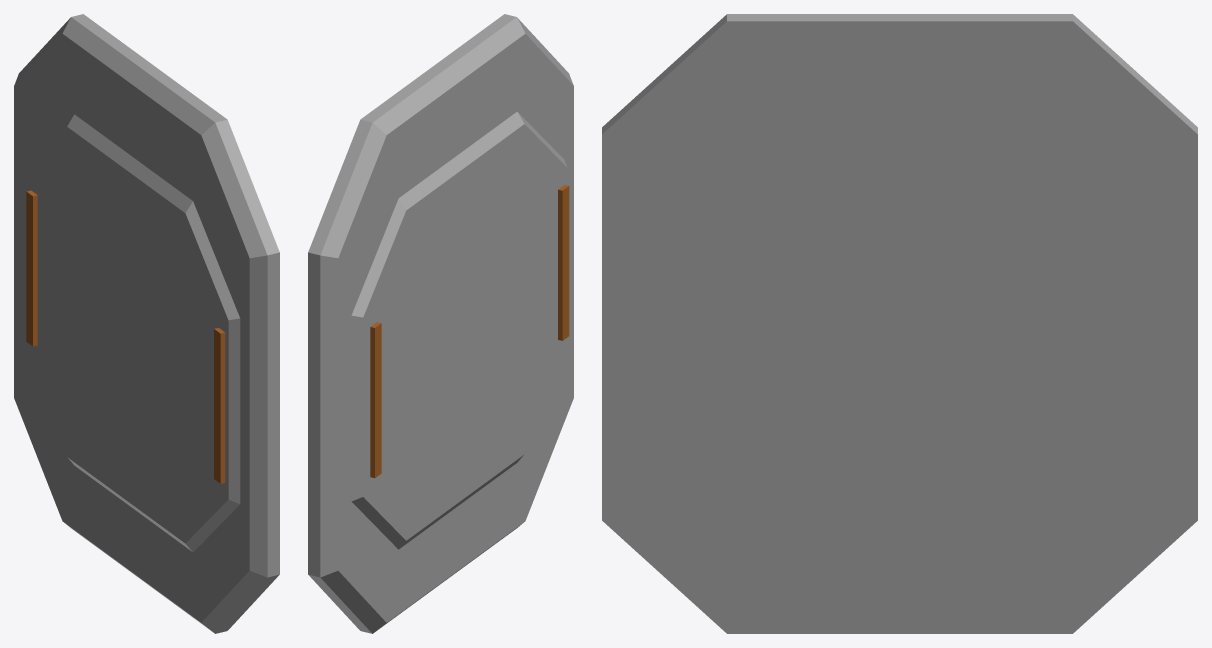
The model's file is SM_Barricade_1.fbx.
The picture shows the model from 3 angles, left to right: view 1: azimuth 30°, elevation 25°; view 2: azimuth 150°, elevation 25°; view 3: azimuth 270°, elevation 25°; orthographic projection. The views are drawn at different scales.
Parts seen in each view (by area): view 1: polySurface17; view 2: polySurface17; view 3: polySurface17.
Part boxes in pixels (<box>): polySurface17: <box>14,14,279,633</box>; polySurface17: <box>308,14,573,633</box>; polySurface17: <box>602,14,1197,633</box>.
Bounding box in the file's own units: 15.14 × 207 × 182.
